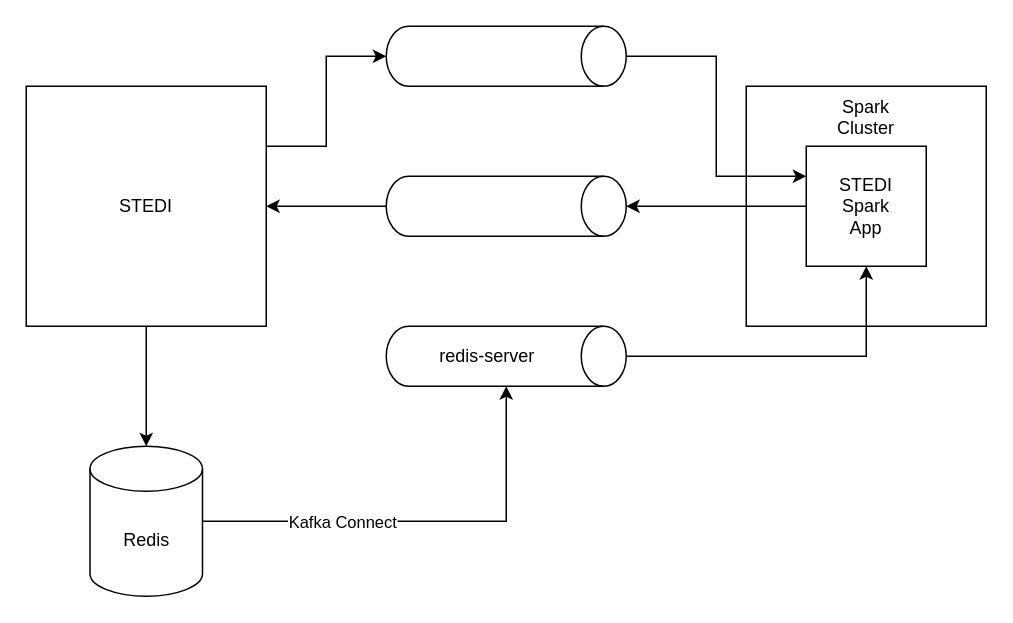
The diagram is 1013 pixels wide and 623 high, and some of its shapes have lost their labels. The shapes that lost their labels are listed below. From the top down, each one's box as (x1, y1, x2, y2) in pixels, then its label:
(385, 25, 626, 86): stedi-events
(385, 175, 626, 236): customer-risk
